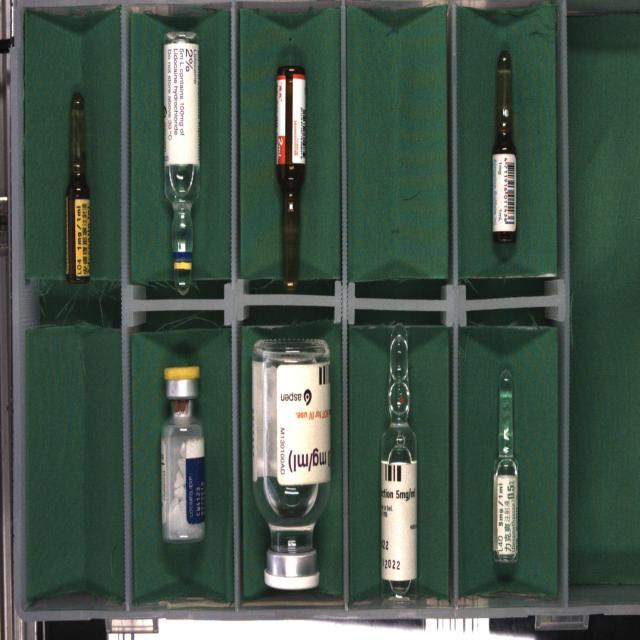Vials: (251, 339, 330, 590), (161, 366, 205, 541)
